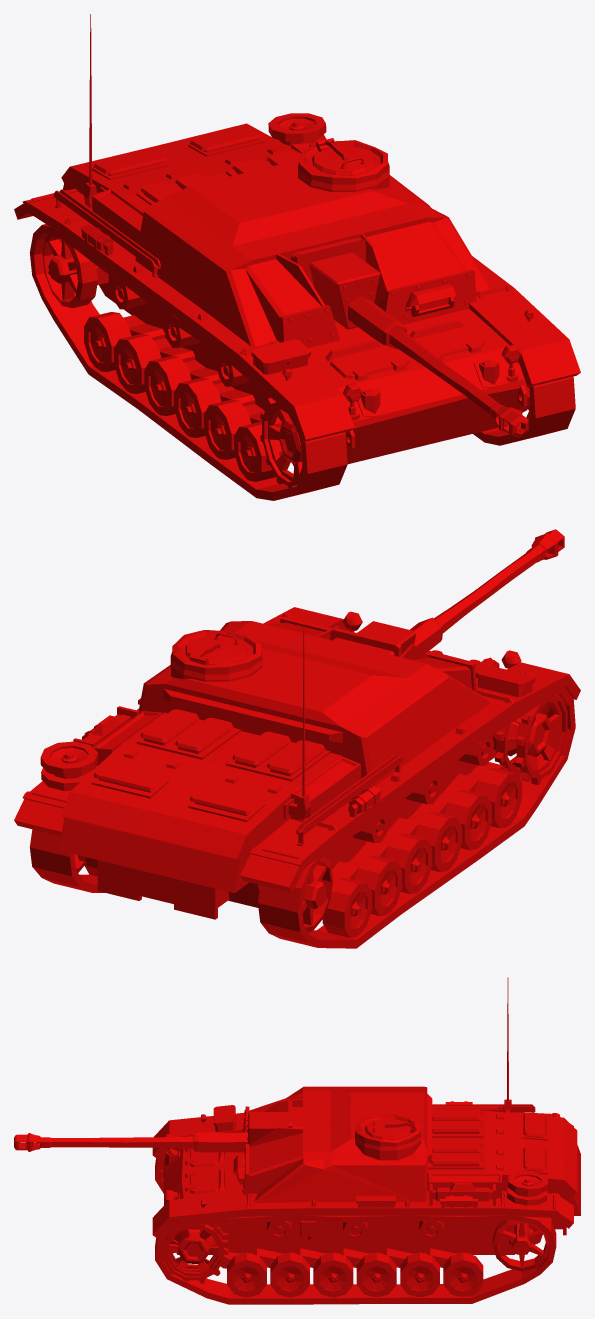
The model's file is SM_Veh_German_Tank_03.fbx.
The picture shows the model from 3 angles, top to bottom: view 1: azimuth 30°, elevation 25°; view 2: azimuth 150°, elevation 25°; view 3: azimuth 270°, elevation 25°; orthographic projection. The views are drawn at different scales.
Visible parts, largest first — view 1: SM_Veh_German_Tank_03, SM_Veh_German_Tank_03_Track_r, SM_Veh_German_Tank_03_Barrel, SM_Veh_German_Tank_03_Track_l, SM_Veh_German_Tank_03_Hatch; view 2: SM_Veh_German_Tank_03, SM_Veh_German_Tank_03_Track_r, SM_Veh_German_Tank_03_Barrel, SM_Veh_German_Tank_03_Track_l, SM_Veh_German_Tank_03_Hatch; view 3: SM_Veh_German_Tank_03, SM_Veh_German_Tank_03_Track_l, SM_Veh_German_Tank_03_Barrel, SM_Veh_German_Tank_03_Hatch.
Part boxes in pixels (x1,y1,x2,y2): SM_Veh_German_Tank_03: (14, 14, 580, 488); SM_Veh_German_Tank_03_Track_r: (29, 224, 347, 500); SM_Veh_German_Tank_03_Barrel: (309, 252, 528, 437); SM_Veh_German_Tank_03_Track_l: (473, 376, 575, 445); SM_Veh_German_Tank_03_Hatch: (312, 140, 376, 175); SM_Veh_German_Tank_03: (14, 607, 580, 937); SM_Veh_German_Tank_03_Track_r: (258, 686, 575, 948); SM_Veh_German_Tank_03_Barrel: (357, 529, 564, 654); SM_Veh_German_Tank_03_Track_l: (29, 829, 104, 892); SM_Veh_German_Tank_03_Hatch: (185, 632, 247, 664); SM_Veh_German_Tank_03: (152, 977, 580, 1297); SM_Veh_German_Tank_03_Track_l: (155, 1215, 556, 1304); SM_Veh_German_Tank_03_Barrel: (14, 1112, 288, 1152); SM_Veh_German_Tank_03_Hatch: (365, 1119, 413, 1139).
Size of the model in its own units: 319 by 364 by 772.
